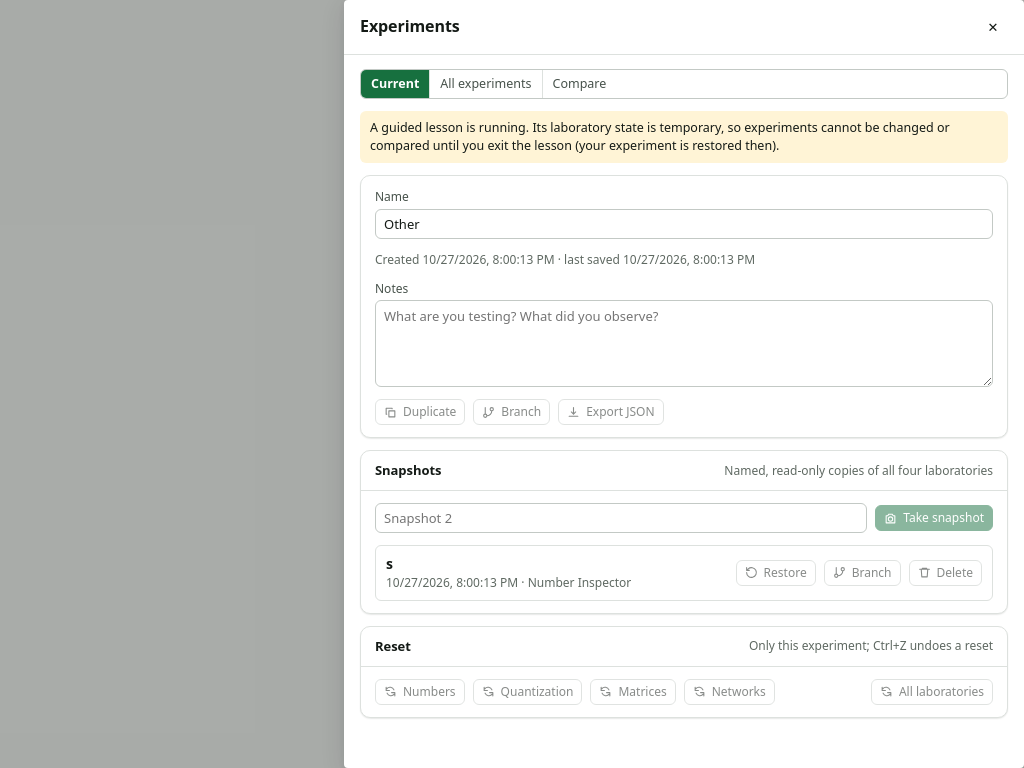
Test case: Experiment panel › locks every experiment action during a lesson
Expected: the field with test id "exp-name" is disabled, x1=375 y1=209 x2=993 y2=239
Expected: the button with test id "exp-duplicate" is disabled, x1=375 y1=399 x2=465 y2=425
Click the radio button labelled "Compare" at (579, 84), box x1=542 y1=70 x2=616 y2=98
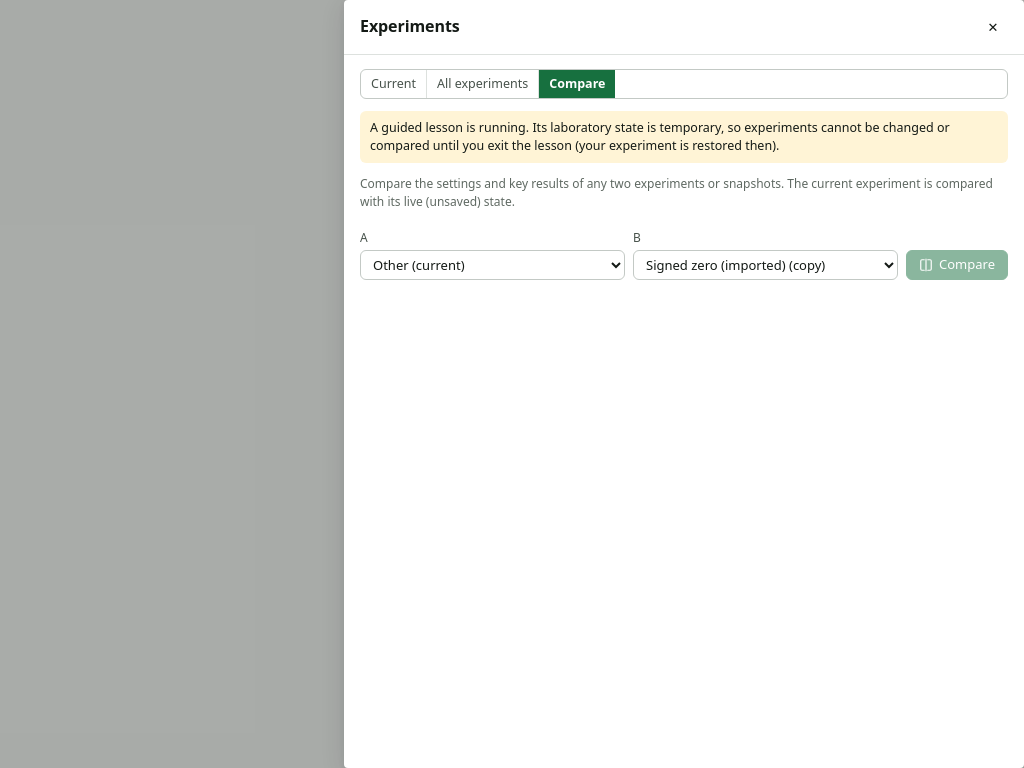
Now the button with test id "compare-run" is disabled, box x1=906 y1=250 x2=1008 y2=280
